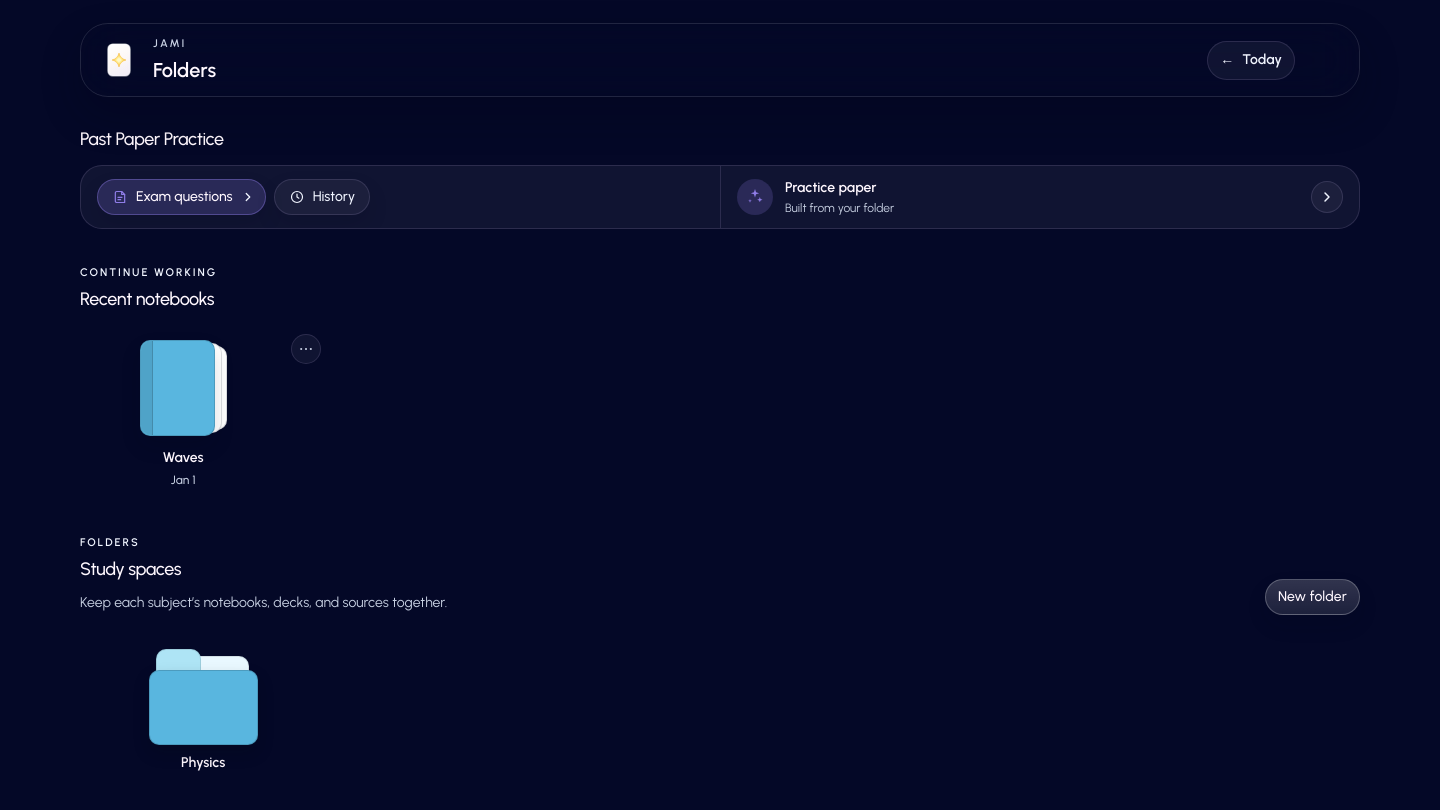
PracticeWorkspace › archives rather than destroys a deleted notebook
This screenshot has width=1440, height=810.
Click the heading named "Notebook actions for Waves".
click(306, 349)  # box [291,334,321,364]
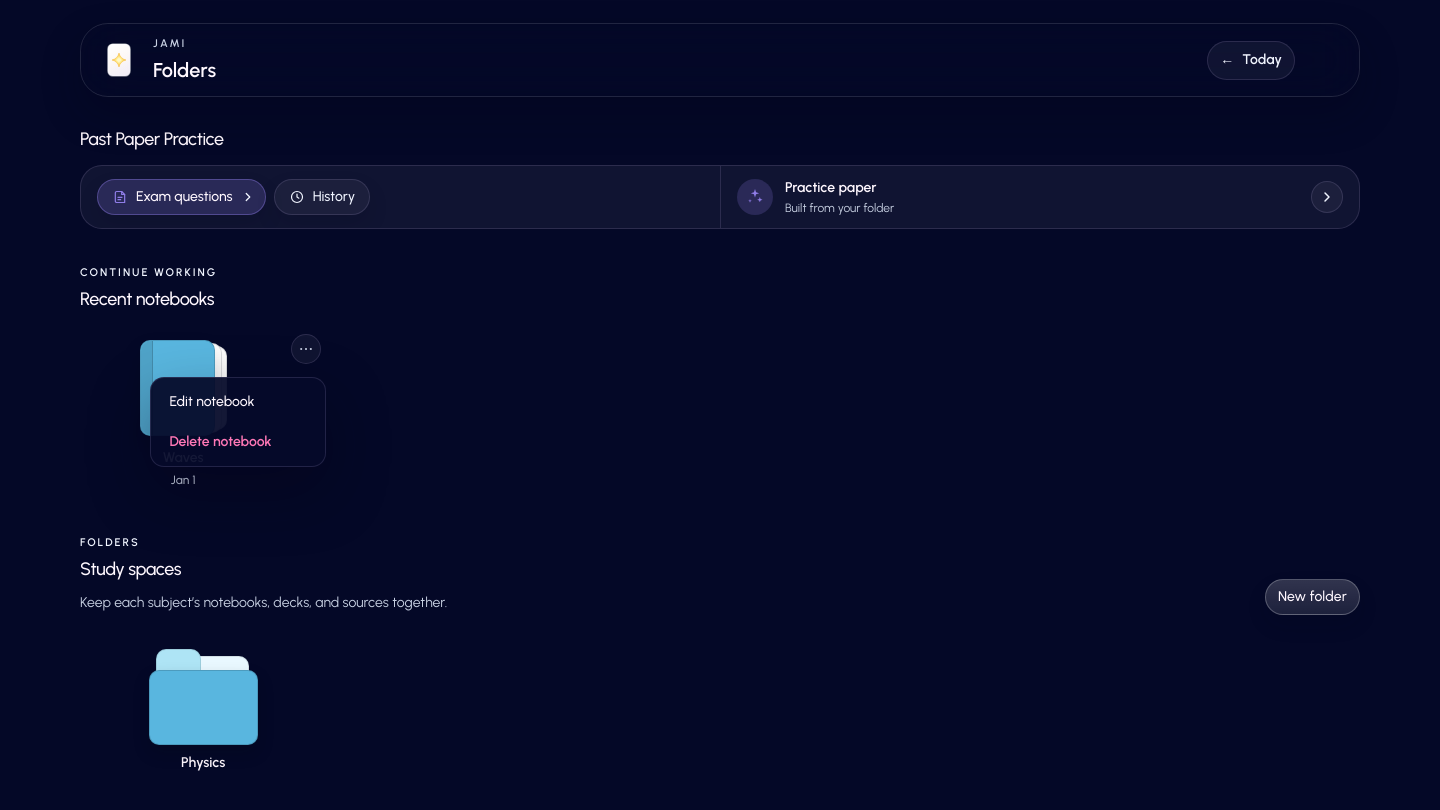
Expected: the button "Delete notebook" is shown
Click the button "Delete notebook".
click(238, 442)  # box [157,424,319,460]
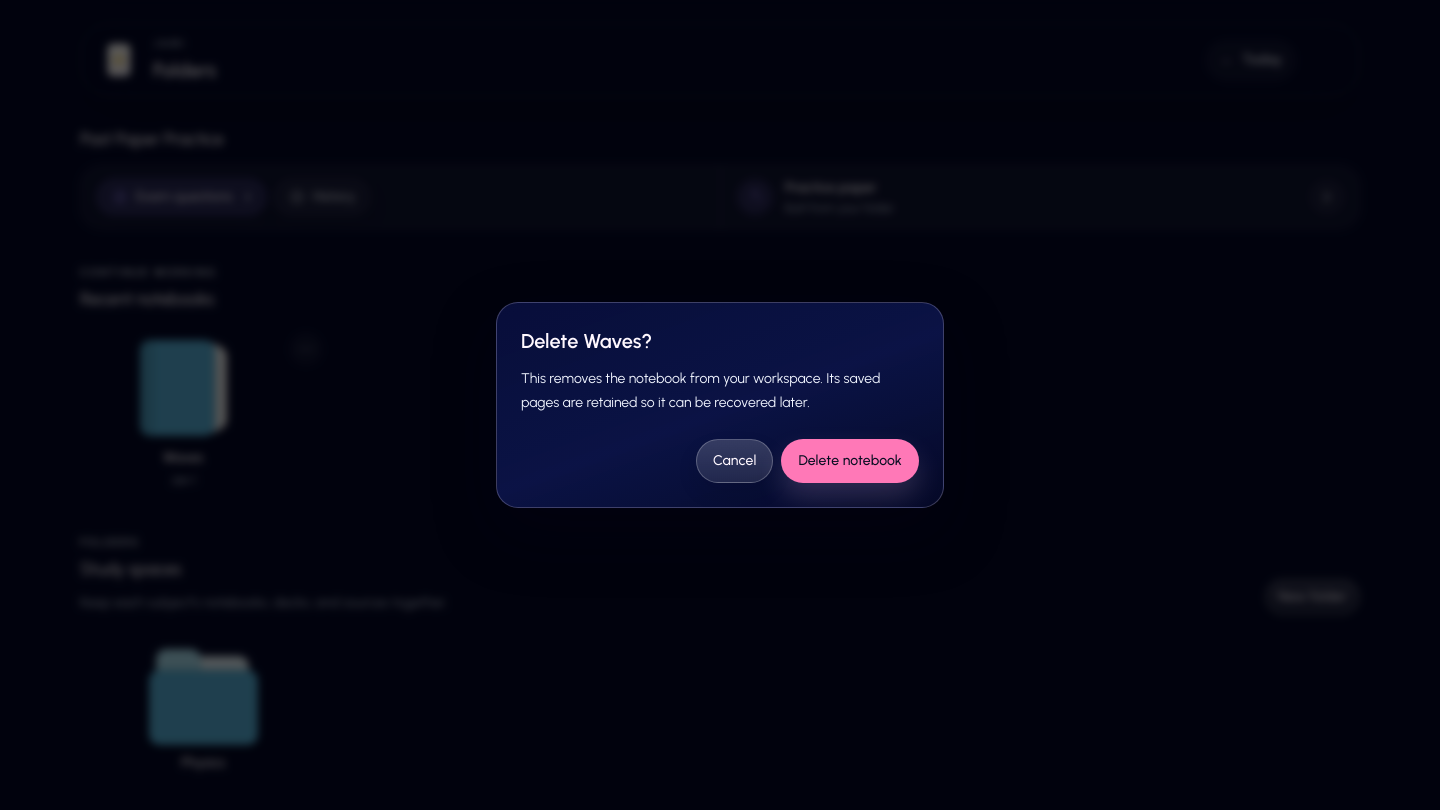
Expected: the button "Delete notebook" is shown
Expected: the dialog is shown, [496,302,944,508]
Click the button "Delete notebook".
click(850, 461)  # box [781,439,919,483]
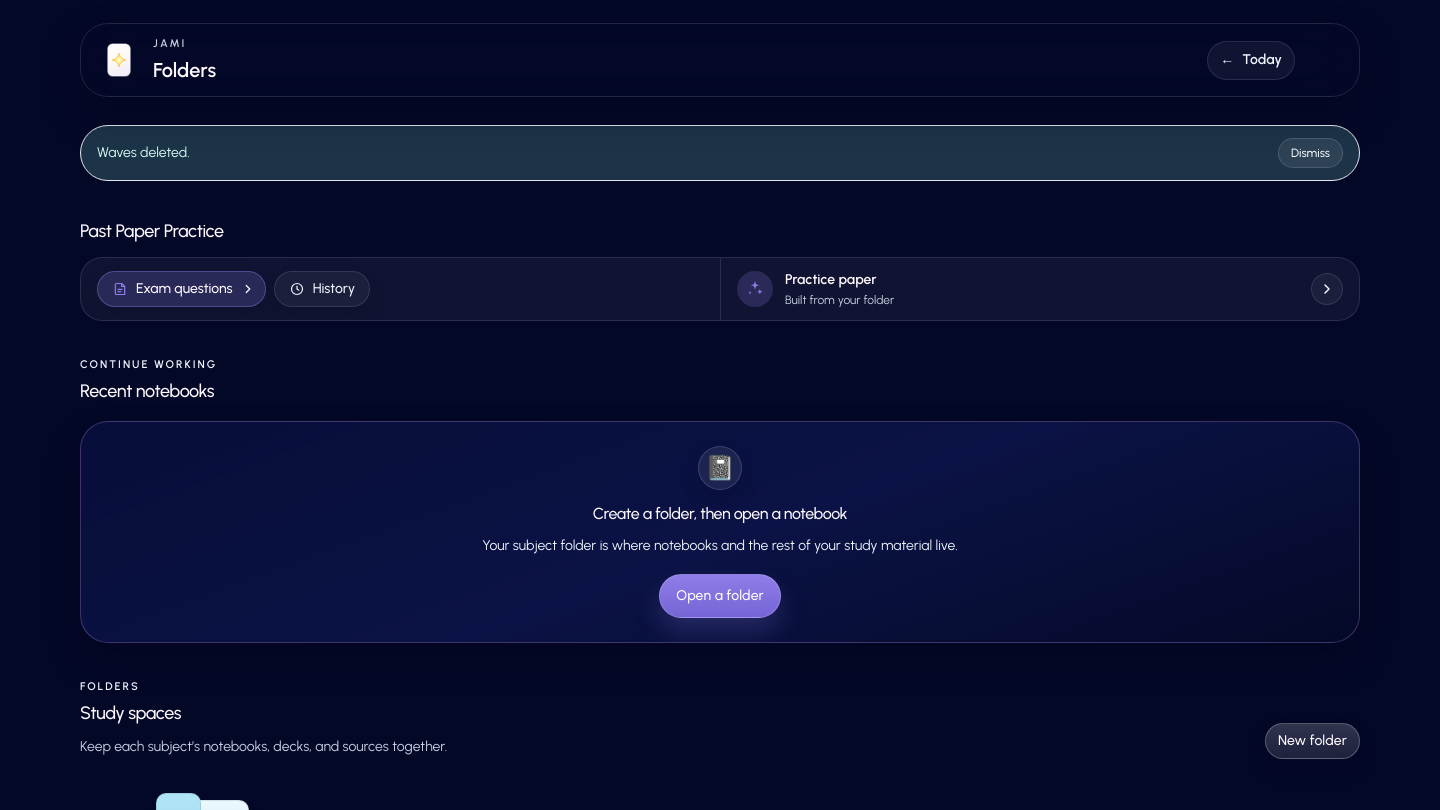
Expected: the dialog is gone
